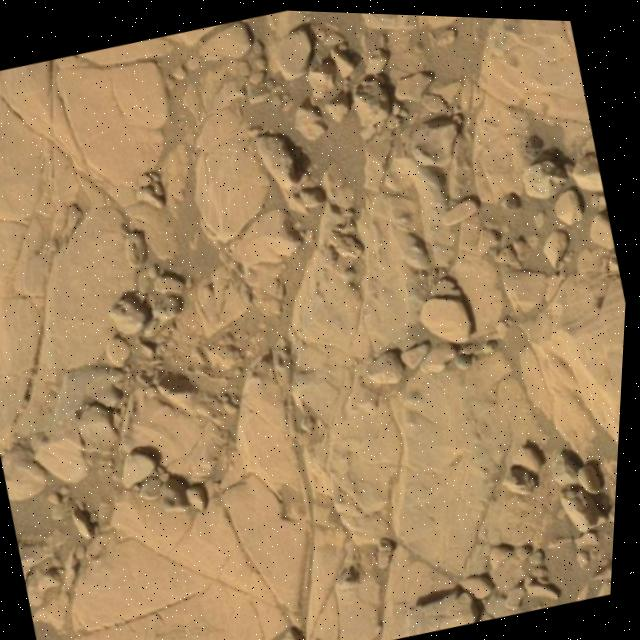mars-rocks: (413, 586, 486, 633), (256, 129, 301, 186), (423, 291, 475, 338), (412, 111, 459, 162), (566, 480, 611, 526), (276, 23, 313, 75), (354, 72, 393, 120), (525, 153, 571, 192), (112, 294, 153, 332), (127, 448, 162, 485), (574, 145, 605, 185), (163, 474, 195, 510), (559, 181, 586, 218), (593, 205, 616, 242), (326, 86, 353, 117)
